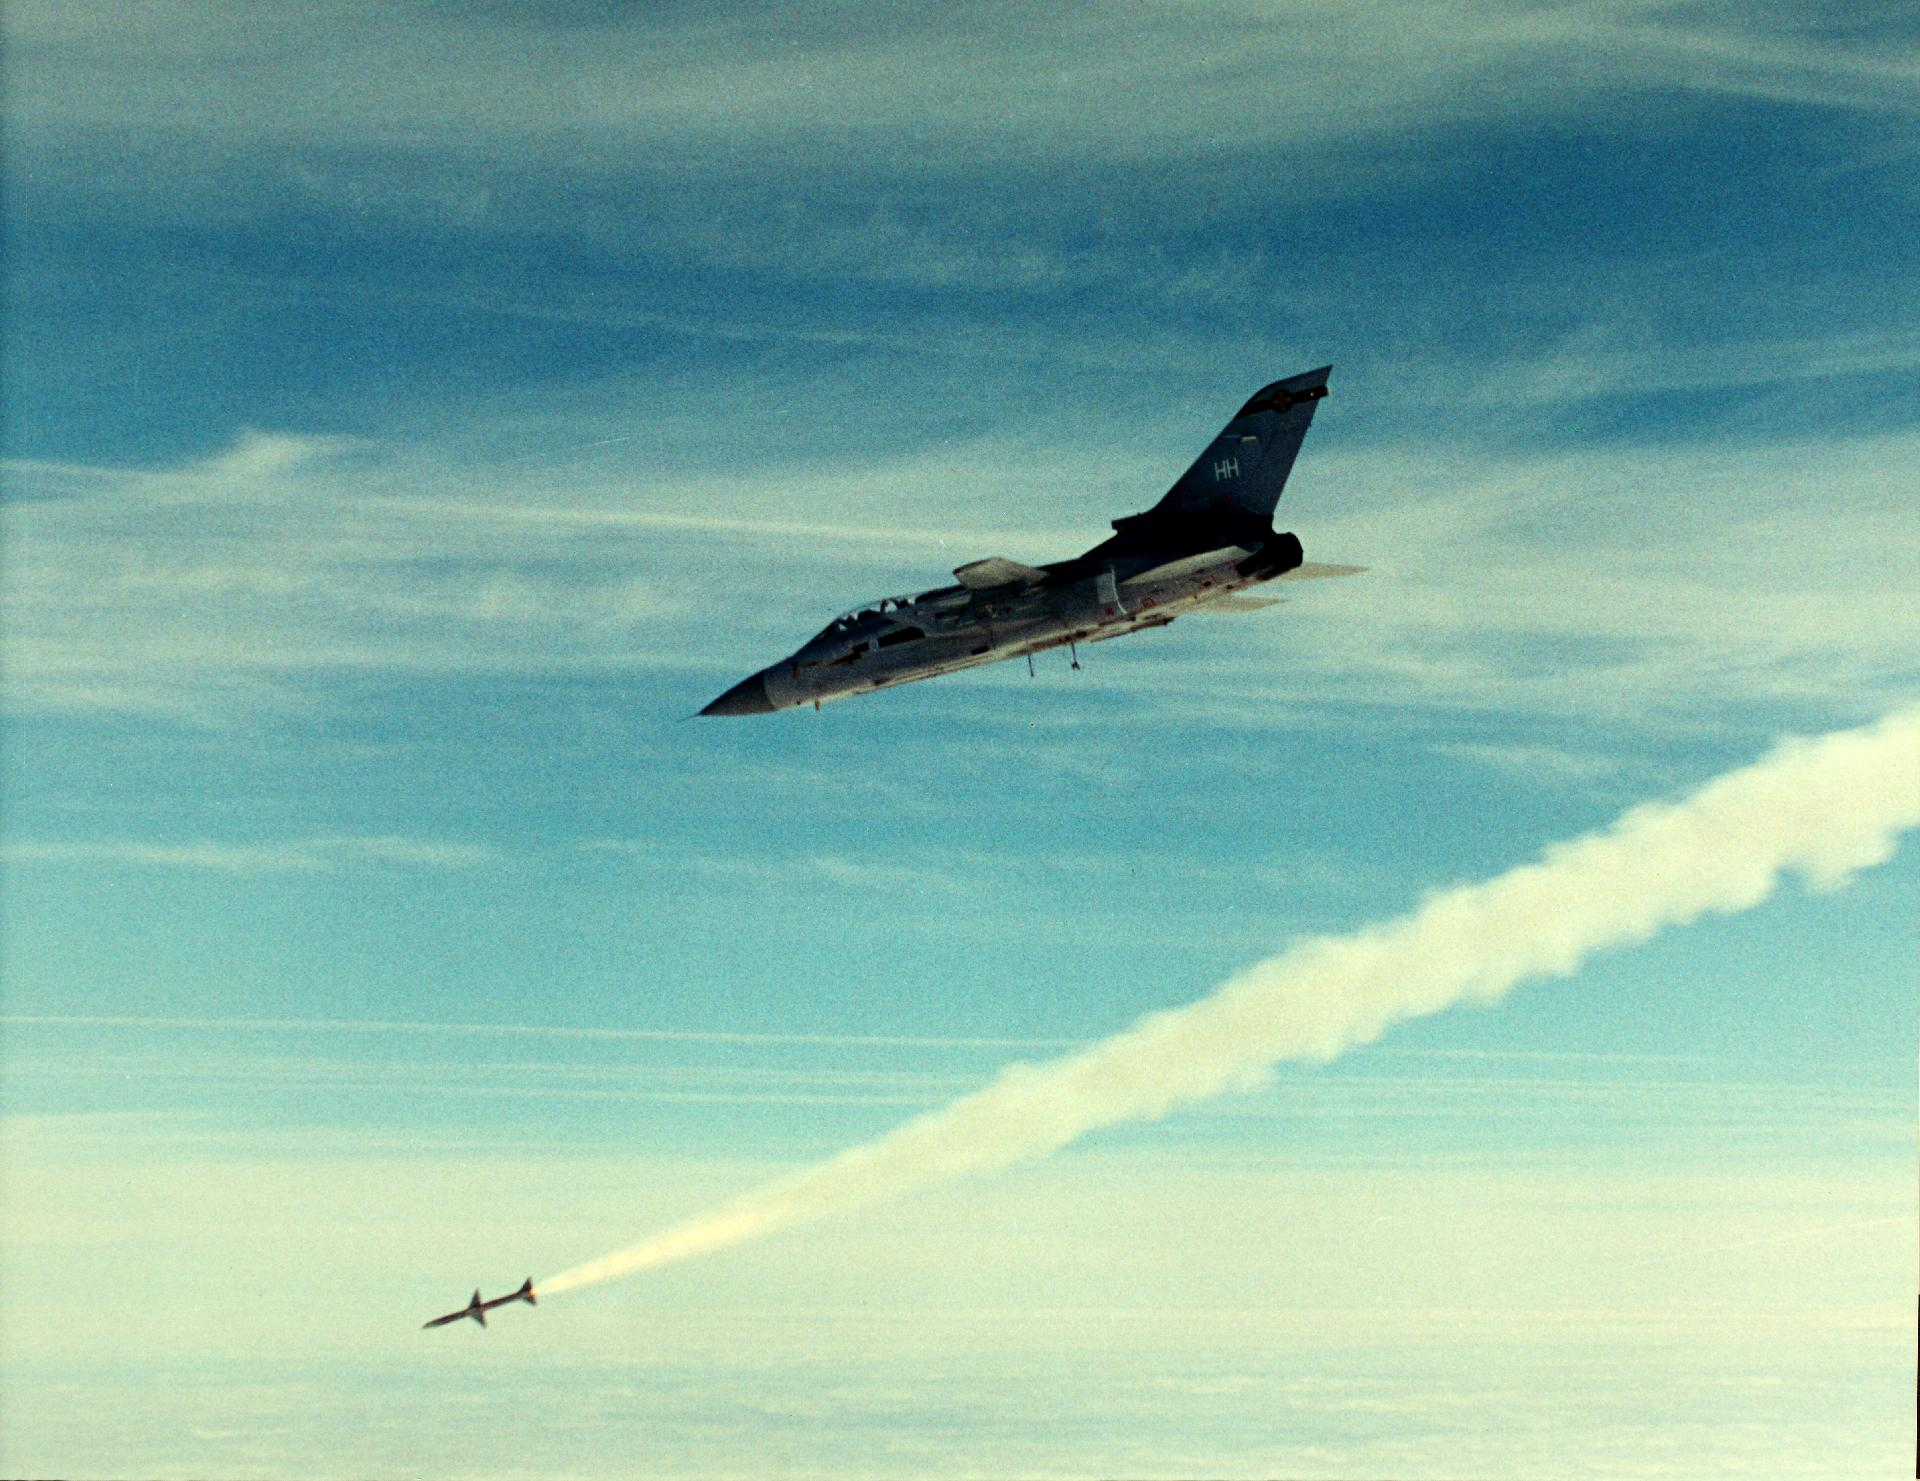Tornado: (675, 362, 1372, 723)
